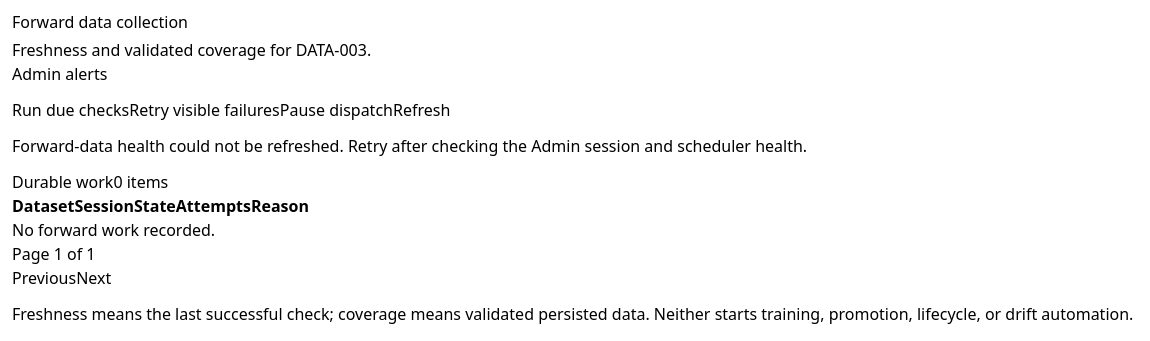
ForwardDataAdminPage › keeps pagination usable after a refresh error and successful retry
The image size is (1150, 341).
Expected: the message is shown, [12,135,807,157]
Click the button with aria-label "Refresh forward-data health": point(422, 110) [393,98,450,122]
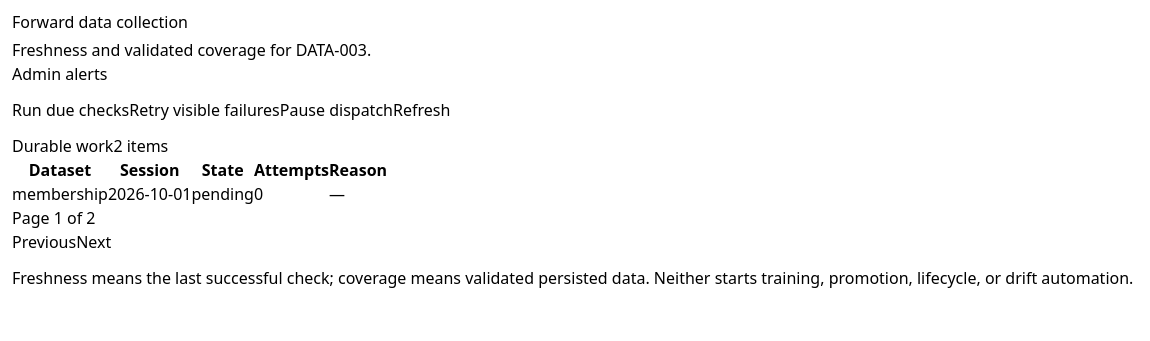
Now the message is gone
Now the button "Next" is enabled, box [76,230,111,254]
